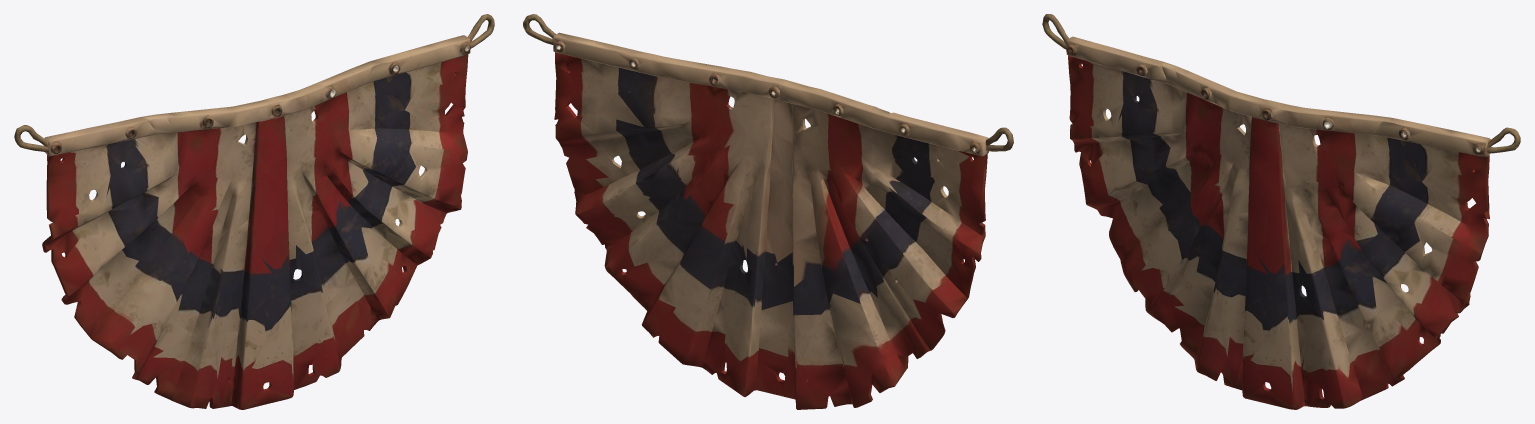
The model's file is bunting_idle.glb.
The picture shows the model from 3 angles, left to right: view 1: azimuth 30°, elevation 25°; view 2: azimuth 150°, elevation 25°; view 3: azimuth 330°, elevation 25°; orthographic projection. The views are drawn at different scales.
Visible parts, largest first — view 1: tripo_node_5b1ab531-bd04-4e6a-b3a0-5c1224b42848; view 2: tripo_node_5b1ab531-bd04-4e6a-b3a0-5c1224b42848; view 3: tripo_node_5b1ab531-bd04-4e6a-b3a0-5c1224b42848.
Part boxes in pixels (<box>): tripo_node_5b1ab531-bd04-4e6a-b3a0-5c1224b42848: <box>14,14,494,409</box>; tripo_node_5b1ab531-bd04-4e6a-b3a0-5c1224b42848: <box>523,14,1013,409</box>; tripo_node_5b1ab531-bd04-4e6a-b3a0-5c1224b42848: <box>1042,14,1520,409</box>.
Size of the model in its own units: 0.9176 by 0.5999 by 0.0832.
Materials: 1 (1 with a texture image).
